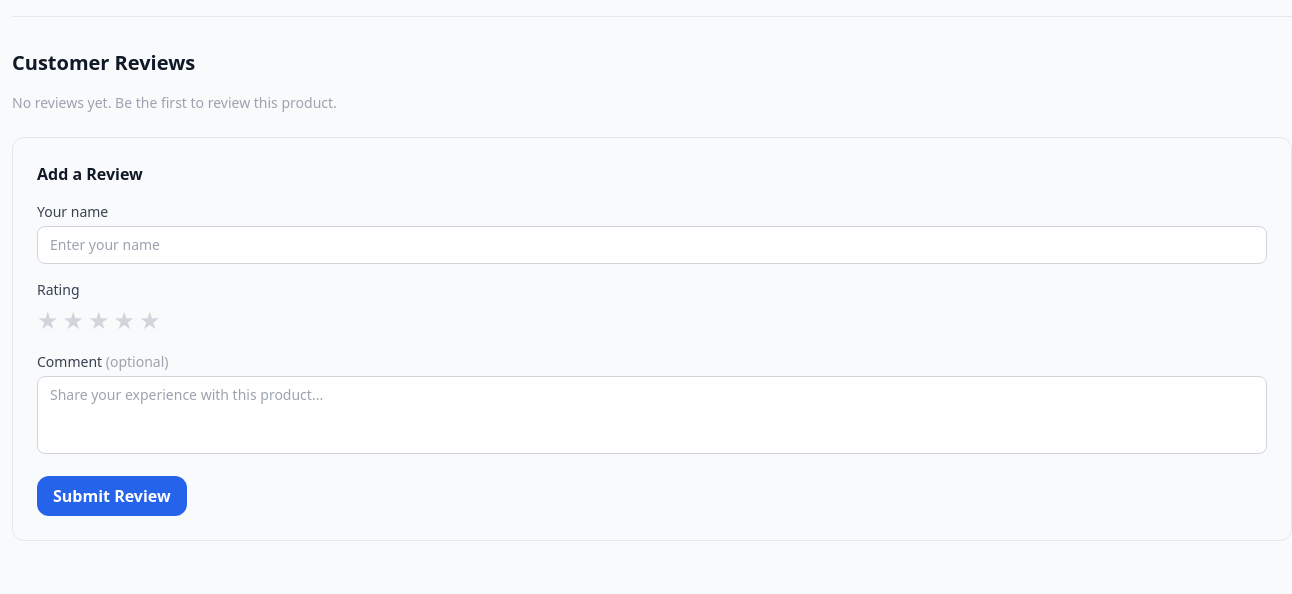
Test case: ReviewSection › shows validation error message on 422
Step 1. Type "Bob" into the field labelled "Your name" → (652, 245), box 37,226 -> 1267,264
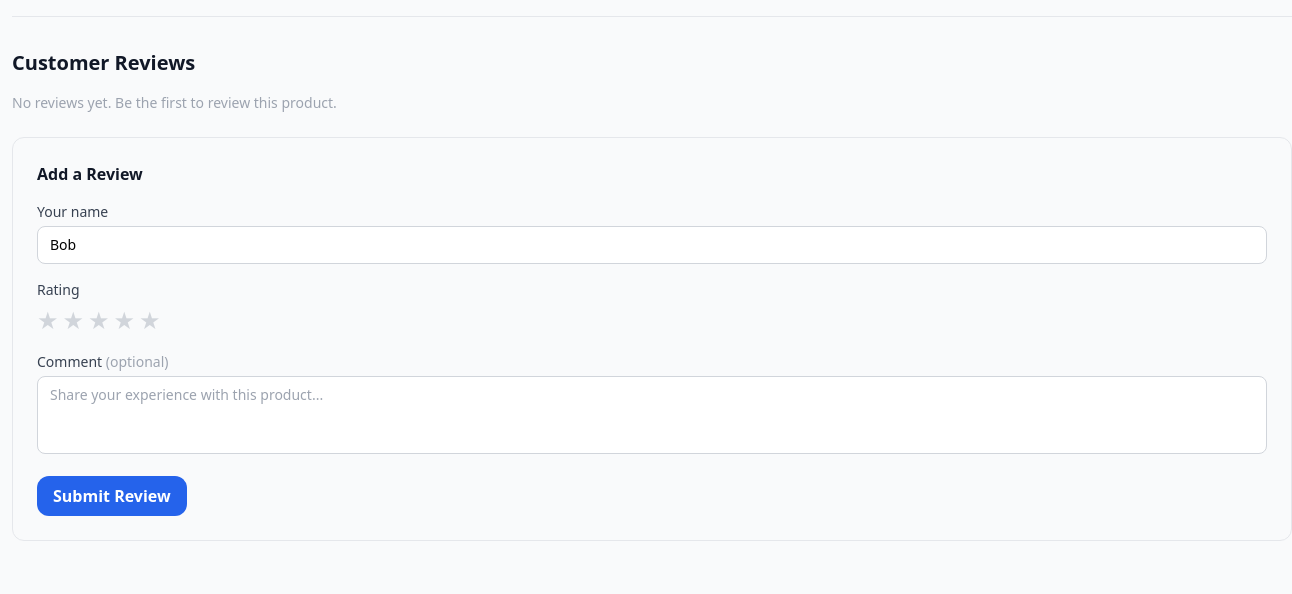
Step 2. Click the button named "3 stars" → click(99, 320), box 88,304 -> 110,336
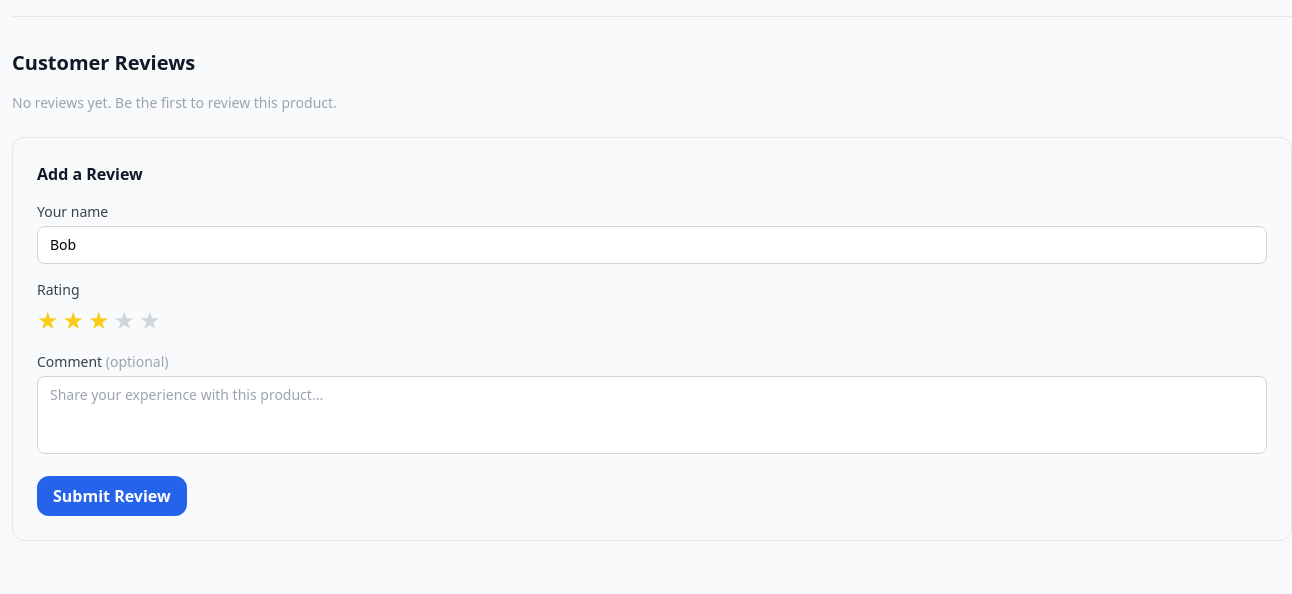
Step 3. Click the button "Submit Review" → click(112, 496), box 37,476 -> 187,516
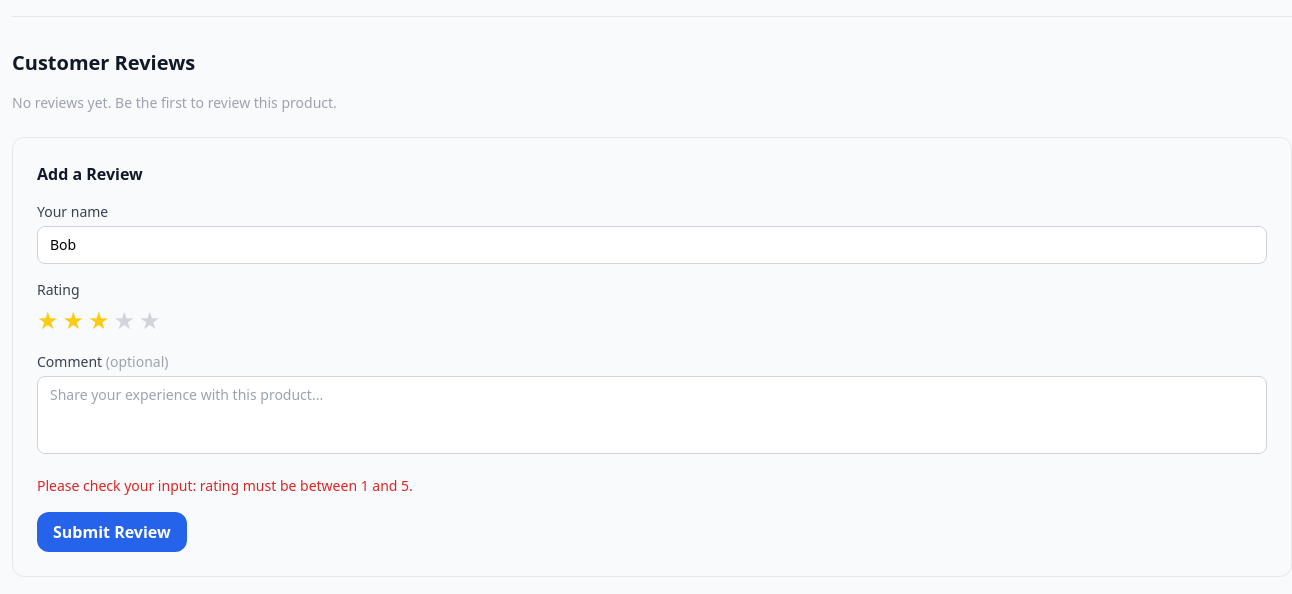
expect the text "Please check your input: rating must be between 1 and 5." is shown: met, box 37,476 -> 413,495
